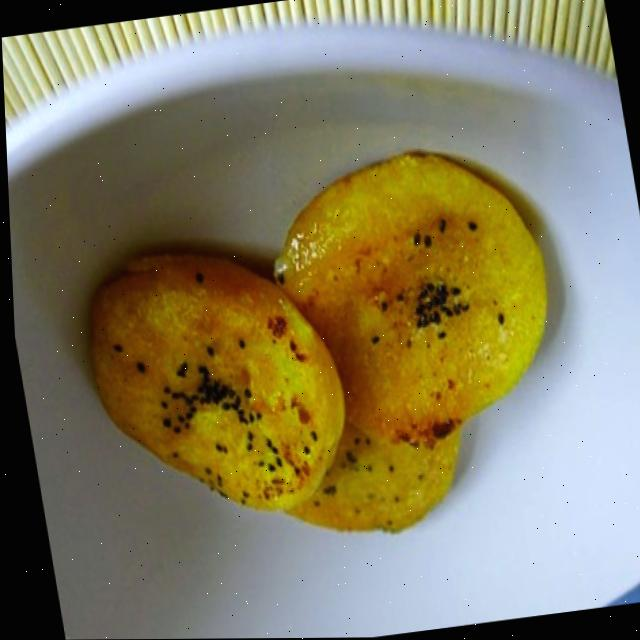炸货点心: (44, 128, 579, 574)
蛋糕甜品: (44, 128, 579, 574)
